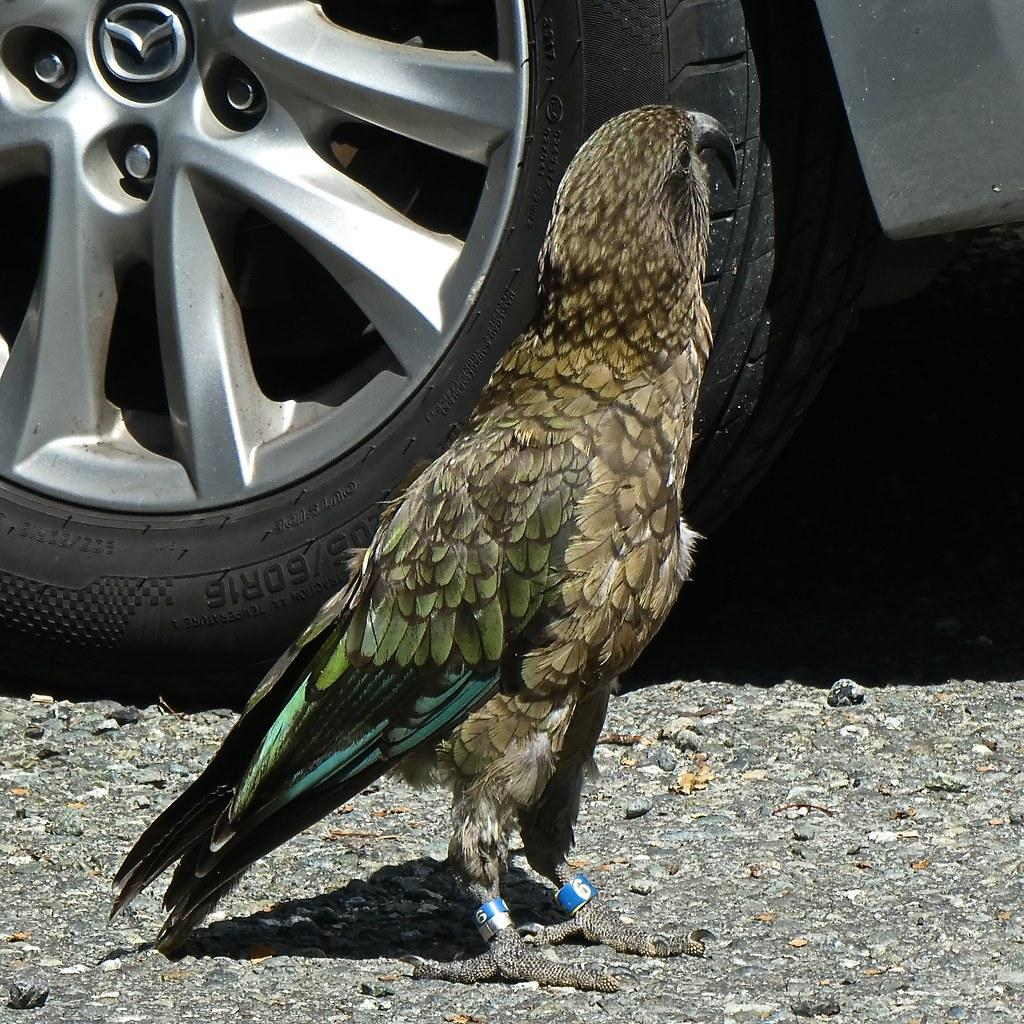car: (1, 1, 1024, 695)
